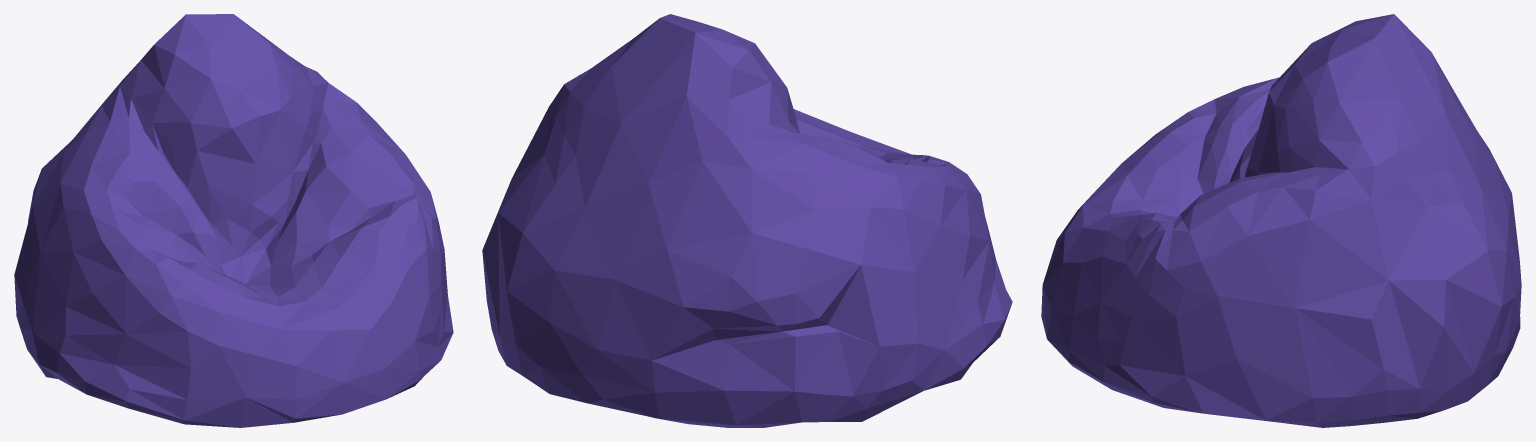
Rendered from Int_Pouf02_3.fbx.
The picture shows the model from 3 angles, left to right: view 1: azimuth 30°, elevation 25°; view 2: azimuth 150°, elevation 25°; view 3: azimuth 270°, elevation 25°; orthographic projection. The views are drawn at different scales.
Visible parts, largest first — view 1: Int_Pouf02_3; view 2: Int_Pouf02_3; view 3: Int_Pouf02_3.
Part boxes in pixels (<box>): Int_Pouf02_3: <box>14,14,453,427</box>; Int_Pouf02_3: <box>482,14,1012,427</box>; Int_Pouf02_3: <box>1041,14,1521,427</box>.
Size of what is drawn, in the model's own units: 137 by 139 by 104.
